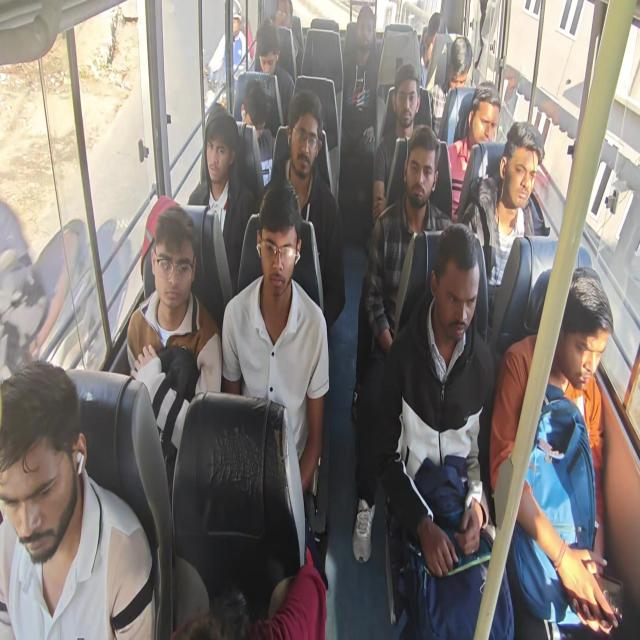person: (1, 372, 97, 572), (551, 249, 606, 399), (143, 200, 194, 306), (442, 240, 486, 337), (254, 214, 296, 311), (396, 131, 446, 207), (200, 114, 244, 194), (470, 85, 508, 173), (506, 134, 542, 210), (288, 110, 317, 182), (394, 67, 423, 129), (236, 80, 264, 137), (446, 29, 470, 94), (353, 0, 375, 53), (258, 34, 282, 79), (426, 16, 444, 56), (272, 0, 294, 31)
